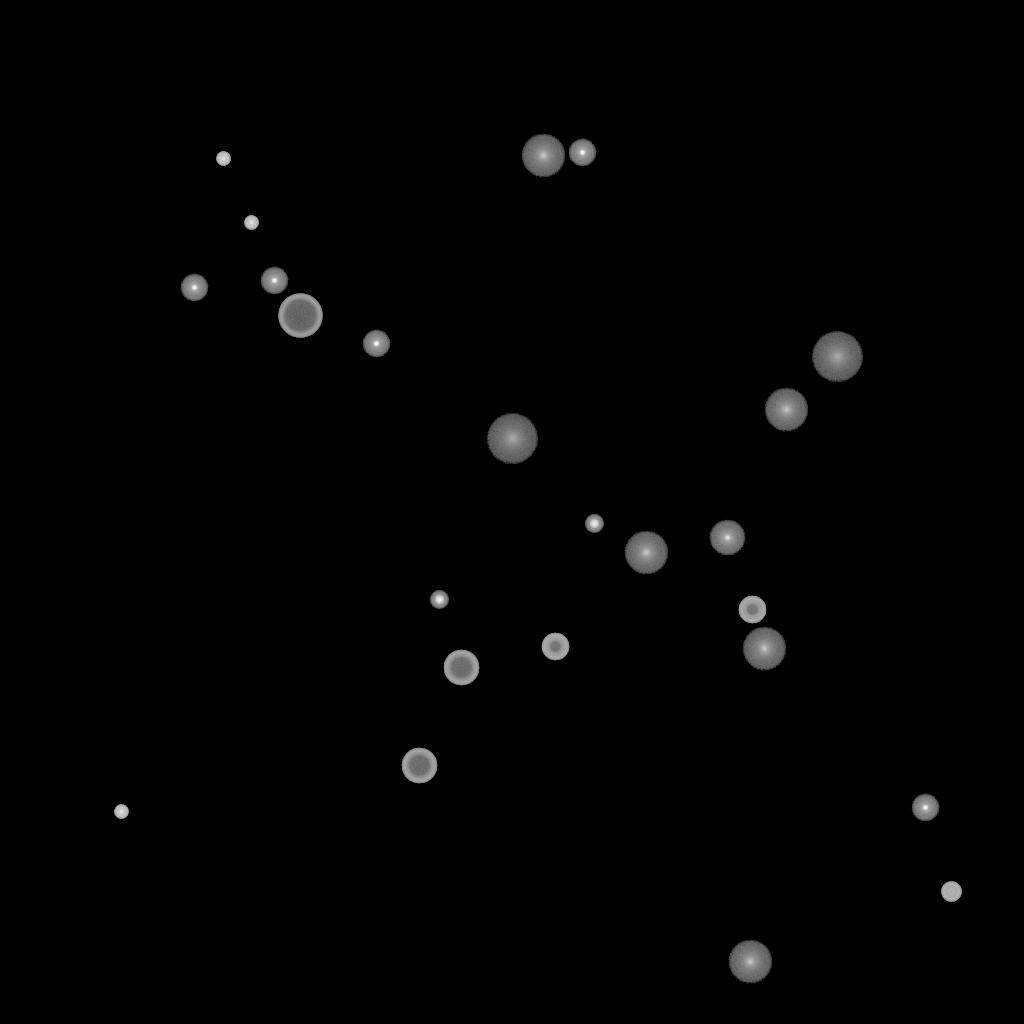depth:-10: (911, 794, 939, 822), (568, 139, 596, 167), (180, 274, 208, 302), (362, 330, 390, 358), (260, 267, 288, 295)
depth:-20: (430, 591, 448, 609), (585, 515, 603, 533)
depth:-30: (216, 152, 230, 166), (114, 805, 128, 819), (244, 216, 258, 230)
depth:-40: (941, 882, 961, 902)
depth:-50: (541, 633, 569, 661), (738, 596, 766, 624)
depth:-60: (401, 748, 437, 784), (443, 650, 479, 686)
depth:-70: (278, 294, 322, 338)
depth:0: (709, 520, 745, 556)
depth:10: (728, 940, 772, 984), (521, 134, 565, 178), (742, 627, 786, 671), (764, 388, 808, 432), (624, 531, 668, 575)
depth:20: (486, 414, 538, 464), (811, 332, 863, 382)
